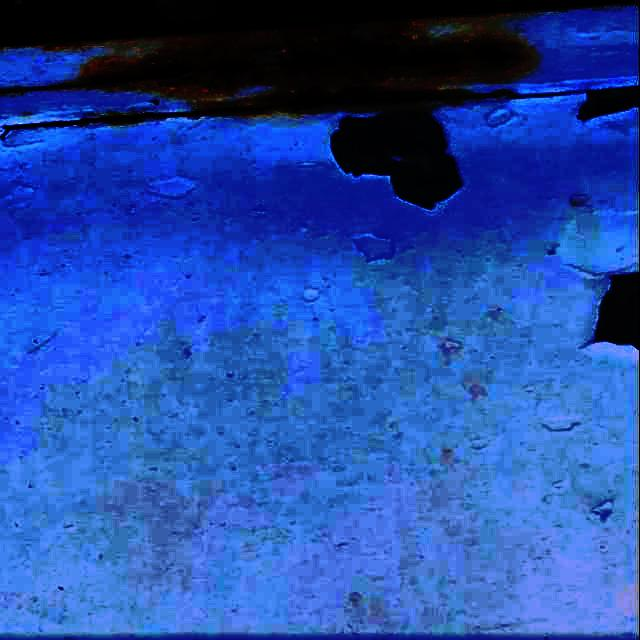Corrosion: (85, 18, 527, 123)
